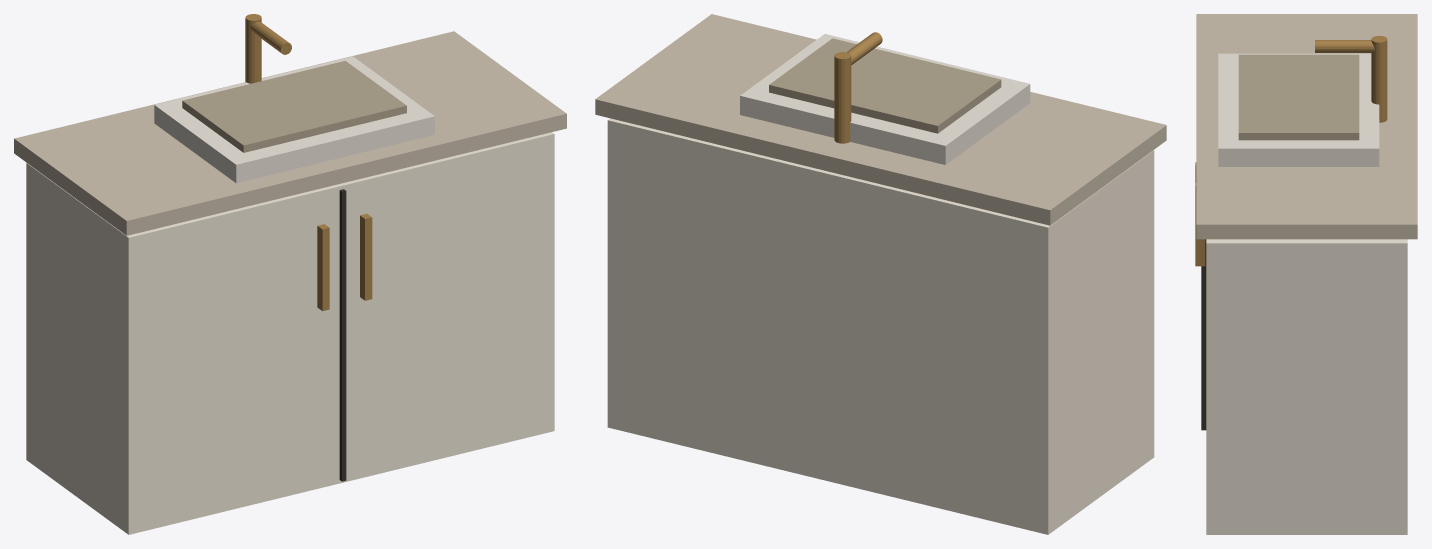
The picture shows the model from 3 angles, left to right: view 1: azimuth 30°, elevation 25°; view 2: azimuth 150°, elevation 25°; view 3: azimuth 270°, elevation 25°; orthographic projection. The views are drawn at different scales.
Parts seen in each view (by area): view 1: vanity; view 2: vanity; view 3: vanity.
Part boxes in pixels (left/top/right/bottom): vanity: left=14, top=14, right=566, bottom=534; vanity: left=595, top=14, right=1166, bottom=534; vanity: left=1195, top=14, right=1417, bottom=534.
Size of the model in its own units: 1.24 by 1.08 by 0.5525.
